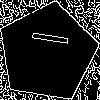I: (22, 27, 70, 48)
